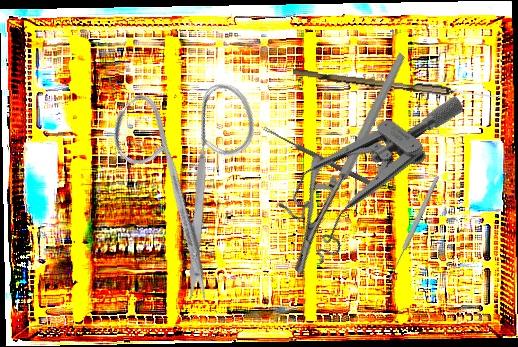Iris Scissors: (61, 41, 329, 310)
Needle Holder: (238, 51, 463, 277)
Speculum: (263, 49, 468, 278)
Surgical Spoon: (292, 68, 505, 103), (262, 125, 373, 187), (386, 174, 441, 282)
